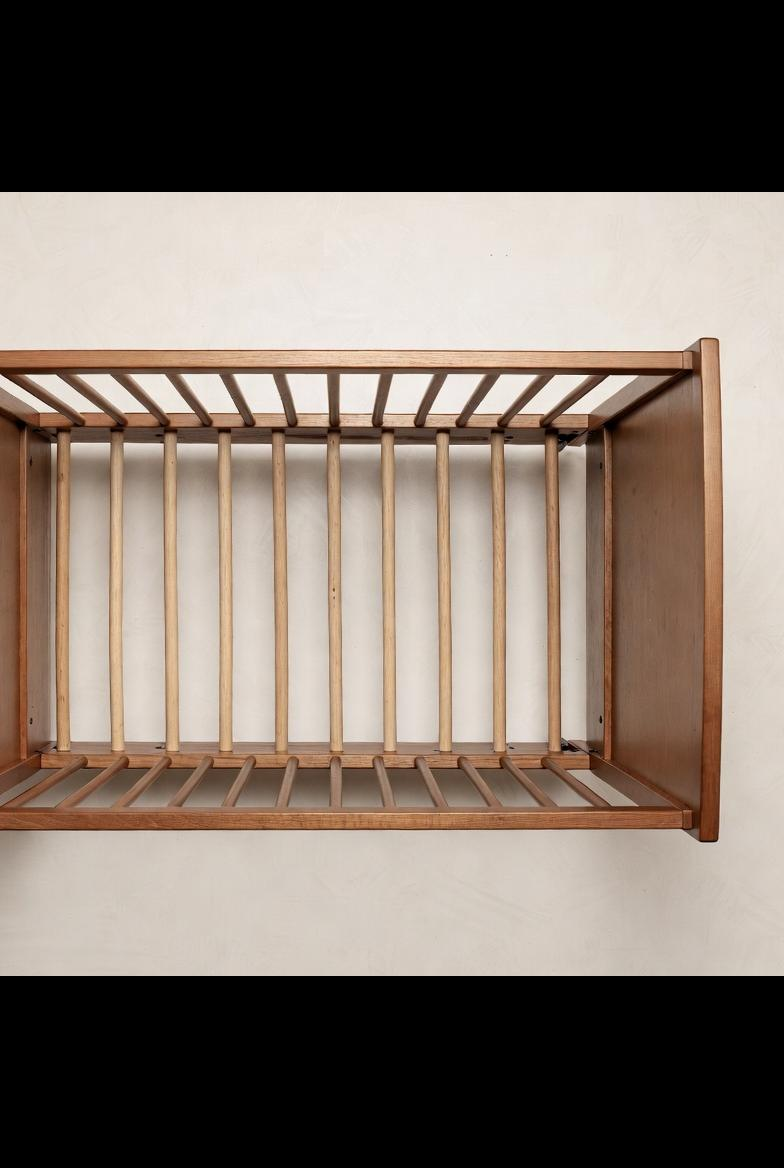crib: (0, 302, 739, 867)
